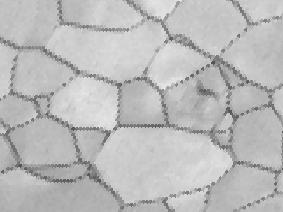good_void: (194, 79, 220, 100)
